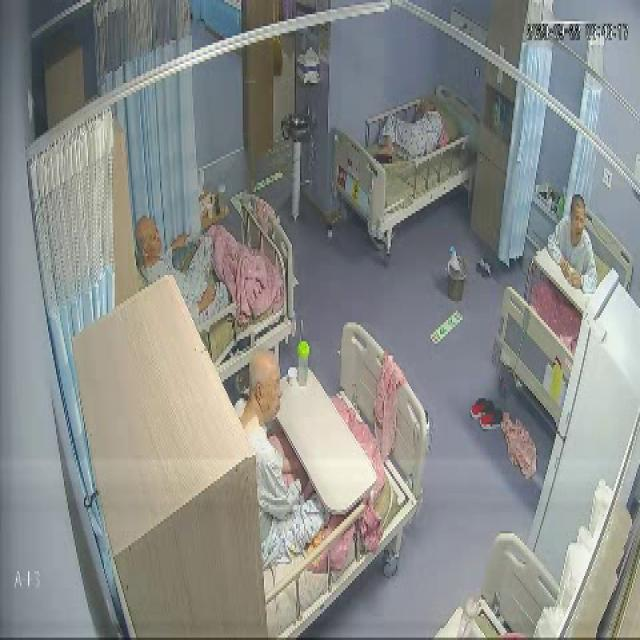bed: (253, 324, 428, 640), (494, 206, 636, 430), (170, 196, 295, 387), (332, 84, 473, 239)
lie: (374, 102, 446, 174)
patient: (235, 348, 330, 567), (134, 204, 223, 324), (546, 191, 600, 294), (374, 101, 447, 172)
sit: (233, 347, 329, 570), (134, 204, 224, 322), (546, 190, 598, 292)
